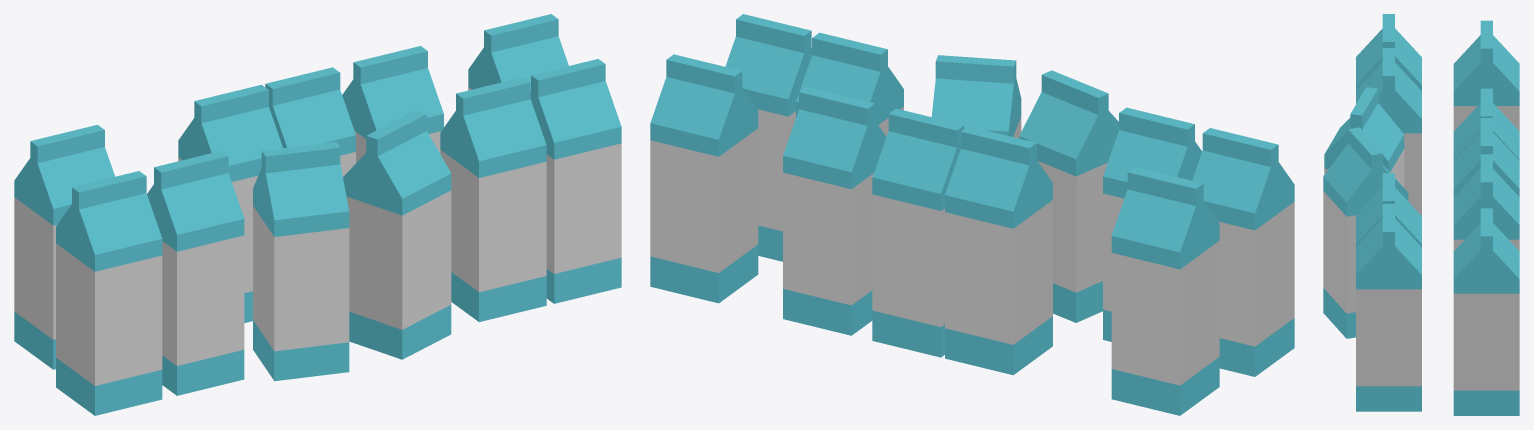
File: ShelfItem7.glb
3 views of the same model, side by side, from view 1: azimuth 30°, elevation 25°; view 2: azimuth 150°, elevation 25°; view 3: azimuth 270°, elevation 25° (orthographic). The views are drawn at different scales.
Parts seen in each view (by area): view 1: SI_Prop_ShelfItem_07; view 2: SI_Prop_ShelfItem_07; view 3: SI_Prop_ShelfItem_07.
Boxes of the visible parts, bbox=[...] form: SI_Prop_ShelfItem_07: bbox=[14, 14, 621, 415]; SI_Prop_ShelfItem_07: bbox=[650, 14, 1294, 415]; SI_Prop_ShelfItem_07: bbox=[1323, 14, 1519, 415].
Bounding box in the file's own units: 0.0187 × 0.00705 × 0.00699.
Materials: 1 (1 with a texture image).
